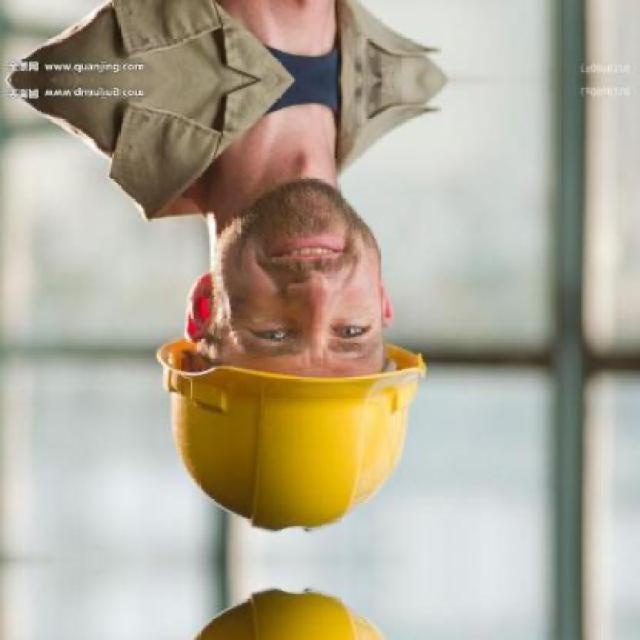con casco: (151, 130, 426, 516)
